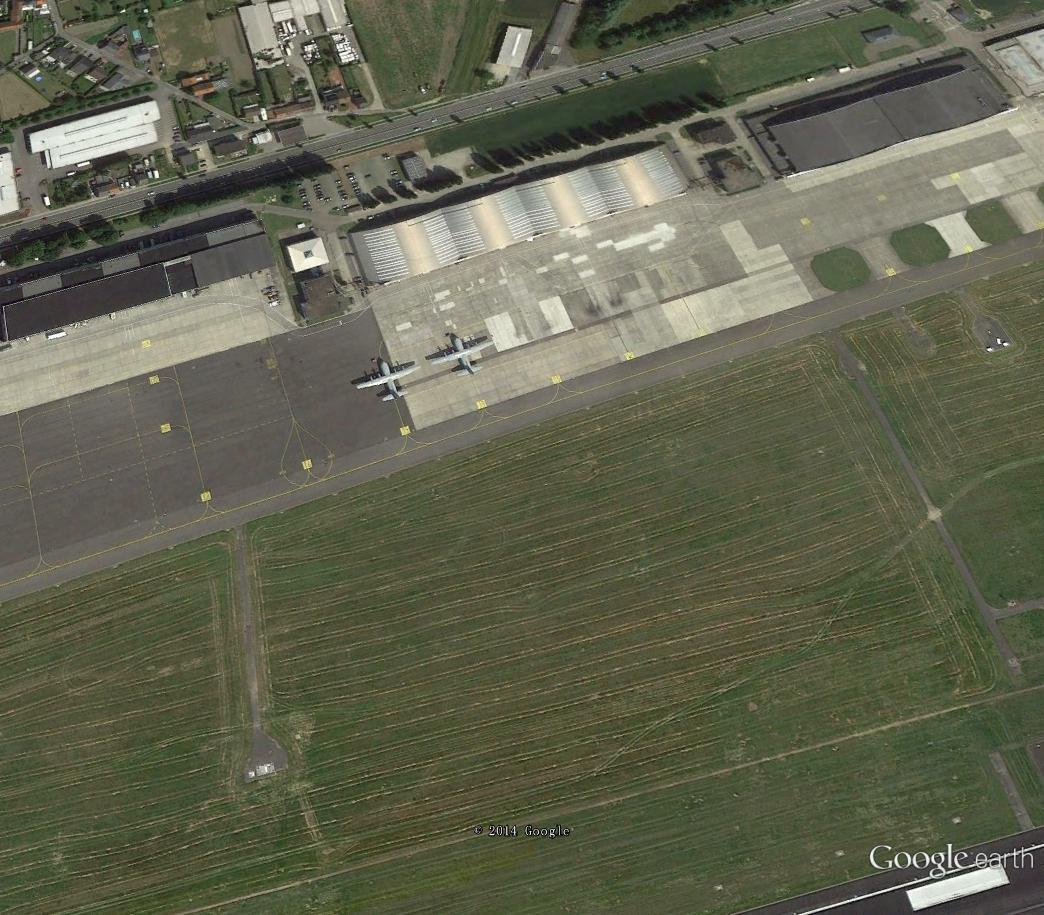aircraft: (352, 355, 424, 404), (427, 332, 499, 379)
